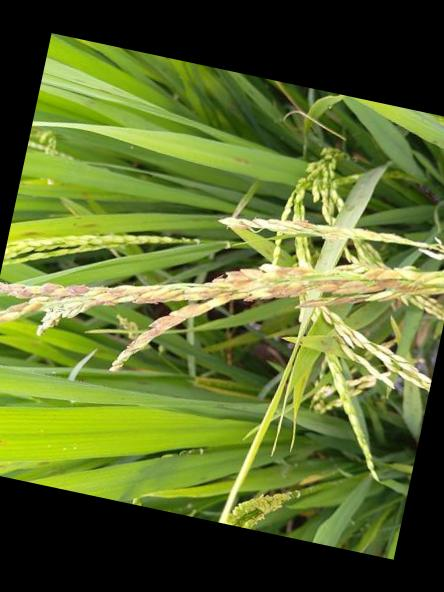Panicle Blight: (0, 264, 444, 372), (219, 216, 355, 241)
